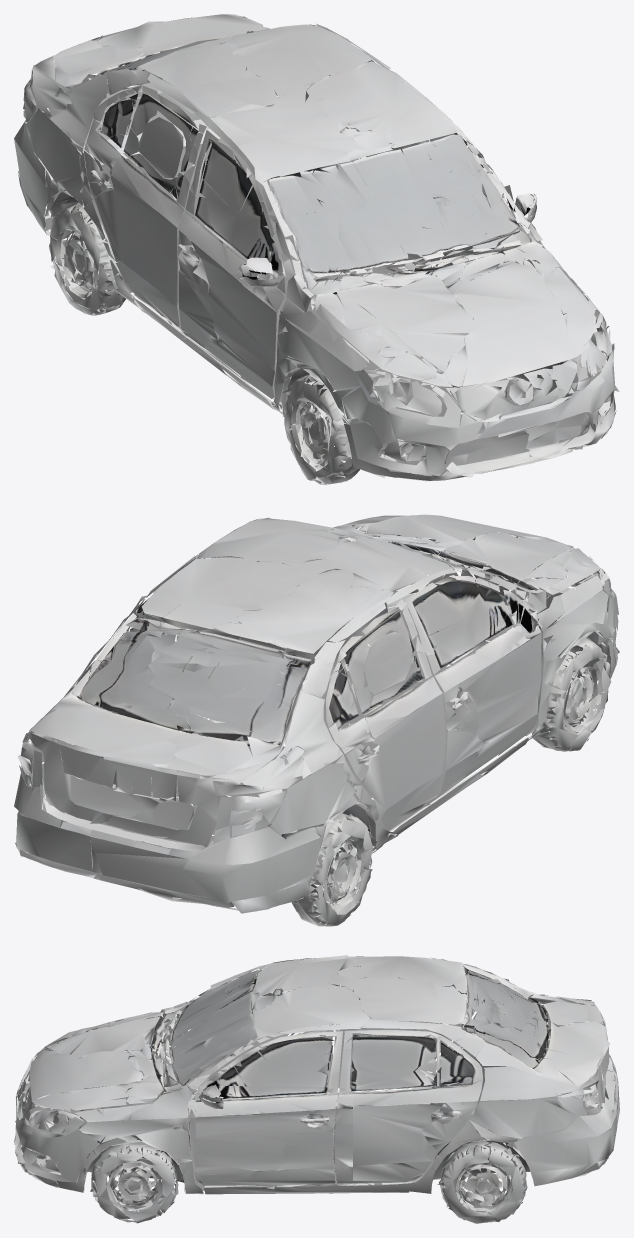
The model's file is car_sedan.glb.
3 views of the same model, one above another, from view 1: azimuth 30°, elevation 25°; view 2: azimuth 150°, elevation 25°; view 3: azimuth 270°, elevation 25° (orthographic). The views are drawn at different scales.
Visible parts, largest first — view 1: body, door_FL; view 2: body; view 3: body, door_FL.
Part boxes in pixels (<box>): body: <box>14,14,619,485</box>; door_FL: <box>423,140,536,280</box>; body: <box>14,514,619,926</box>; body: <box>14,955,619,1223</box>; door_FL: <box>195,1086,352,1180</box>.
Size of the model in its own units: 0.799 by 0.666 by 1.9.
Materials: 1 (1 with a texture image).
